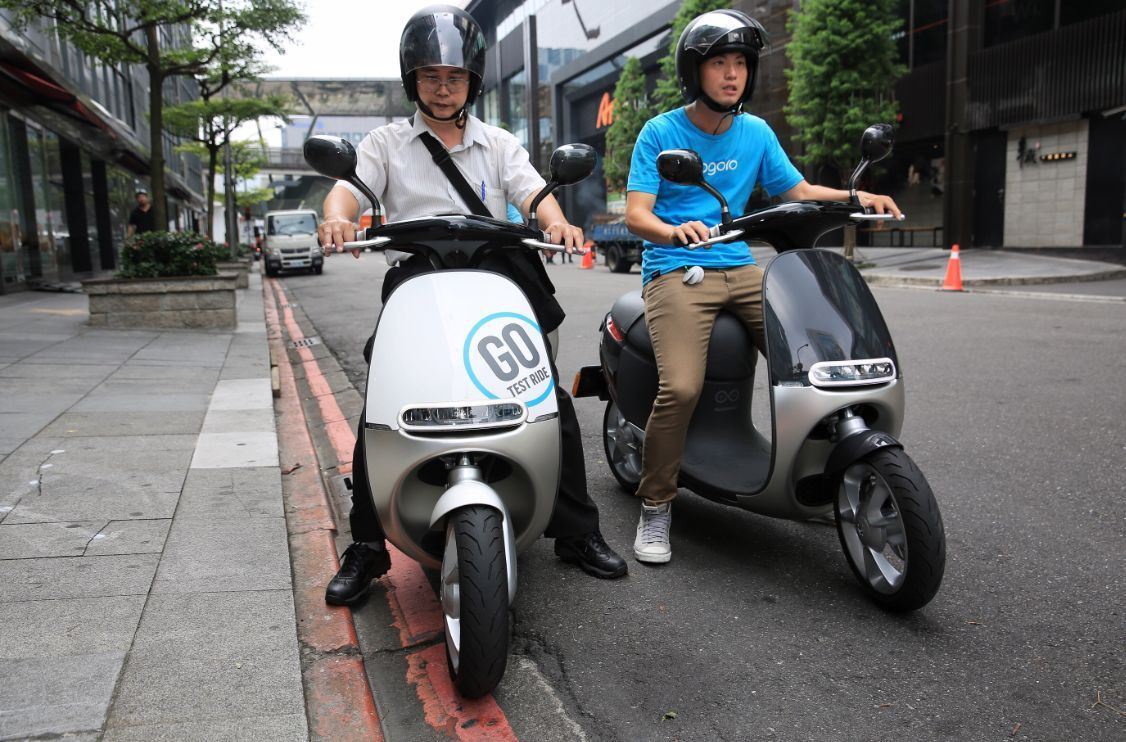non-vehicle: (596, 178, 950, 627), (311, 118, 569, 702)
